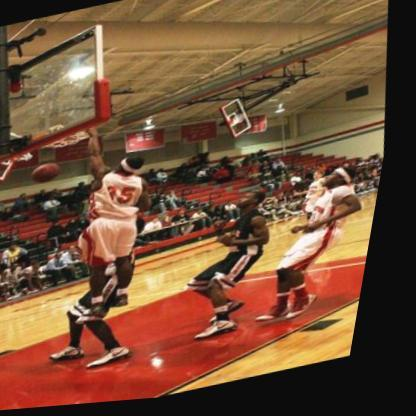basketball: (34, 161, 69, 185)
rim: (35, 122, 104, 153), (234, 116, 253, 130)
